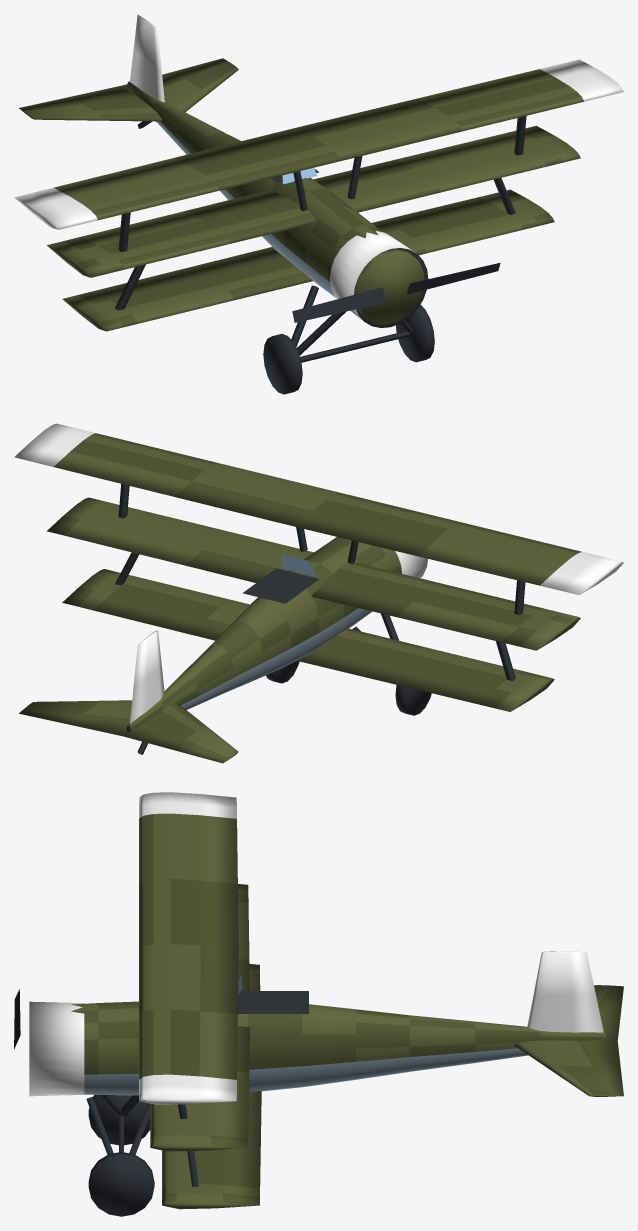
Rendered from fokker_dr1.glb.
The picture shows the model from 3 angles, top to bottom: view 1: azimuth 30°, elevation 25°; view 2: azimuth 150°, elevation 25°; view 3: azimuth 270°, elevation 25°; orthographic projection. The views are drawn at different scales.
Visible parts, largest first — view 1: body, prop; view 2: body; view 3: body.
Part boxes in pixels (x1,y1,x2,y2): body: (14, 14, 623, 394); prop: (292, 262, 500, 322); body: (14, 423, 623, 763); body: (29, 792, 623, 1216).
Size of the model in its own units: 7.19 by 2.59 by 6.1.
